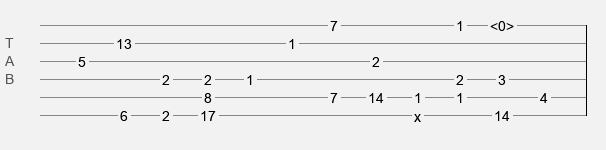1: (246, 72, 254, 82), (288, 36, 296, 46), (414, 90, 422, 100), (456, 90, 464, 100), (456, 18, 464, 28)
13: (116, 36, 132, 46)
14: (368, 90, 384, 100), (494, 108, 510, 118)
17: (200, 108, 216, 118)
2: (162, 72, 170, 82), (162, 108, 170, 118), (204, 72, 212, 82), (372, 54, 380, 64), (456, 72, 464, 82)
3: (498, 72, 506, 82)
4: (540, 90, 548, 100)
5: (78, 54, 86, 64)
6: (120, 108, 128, 118)
7: (330, 18, 338, 28), (330, 90, 338, 100)
8: (204, 90, 212, 100)
harmonic: (490, 18, 514, 28)
x: (414, 109, 421, 117)
